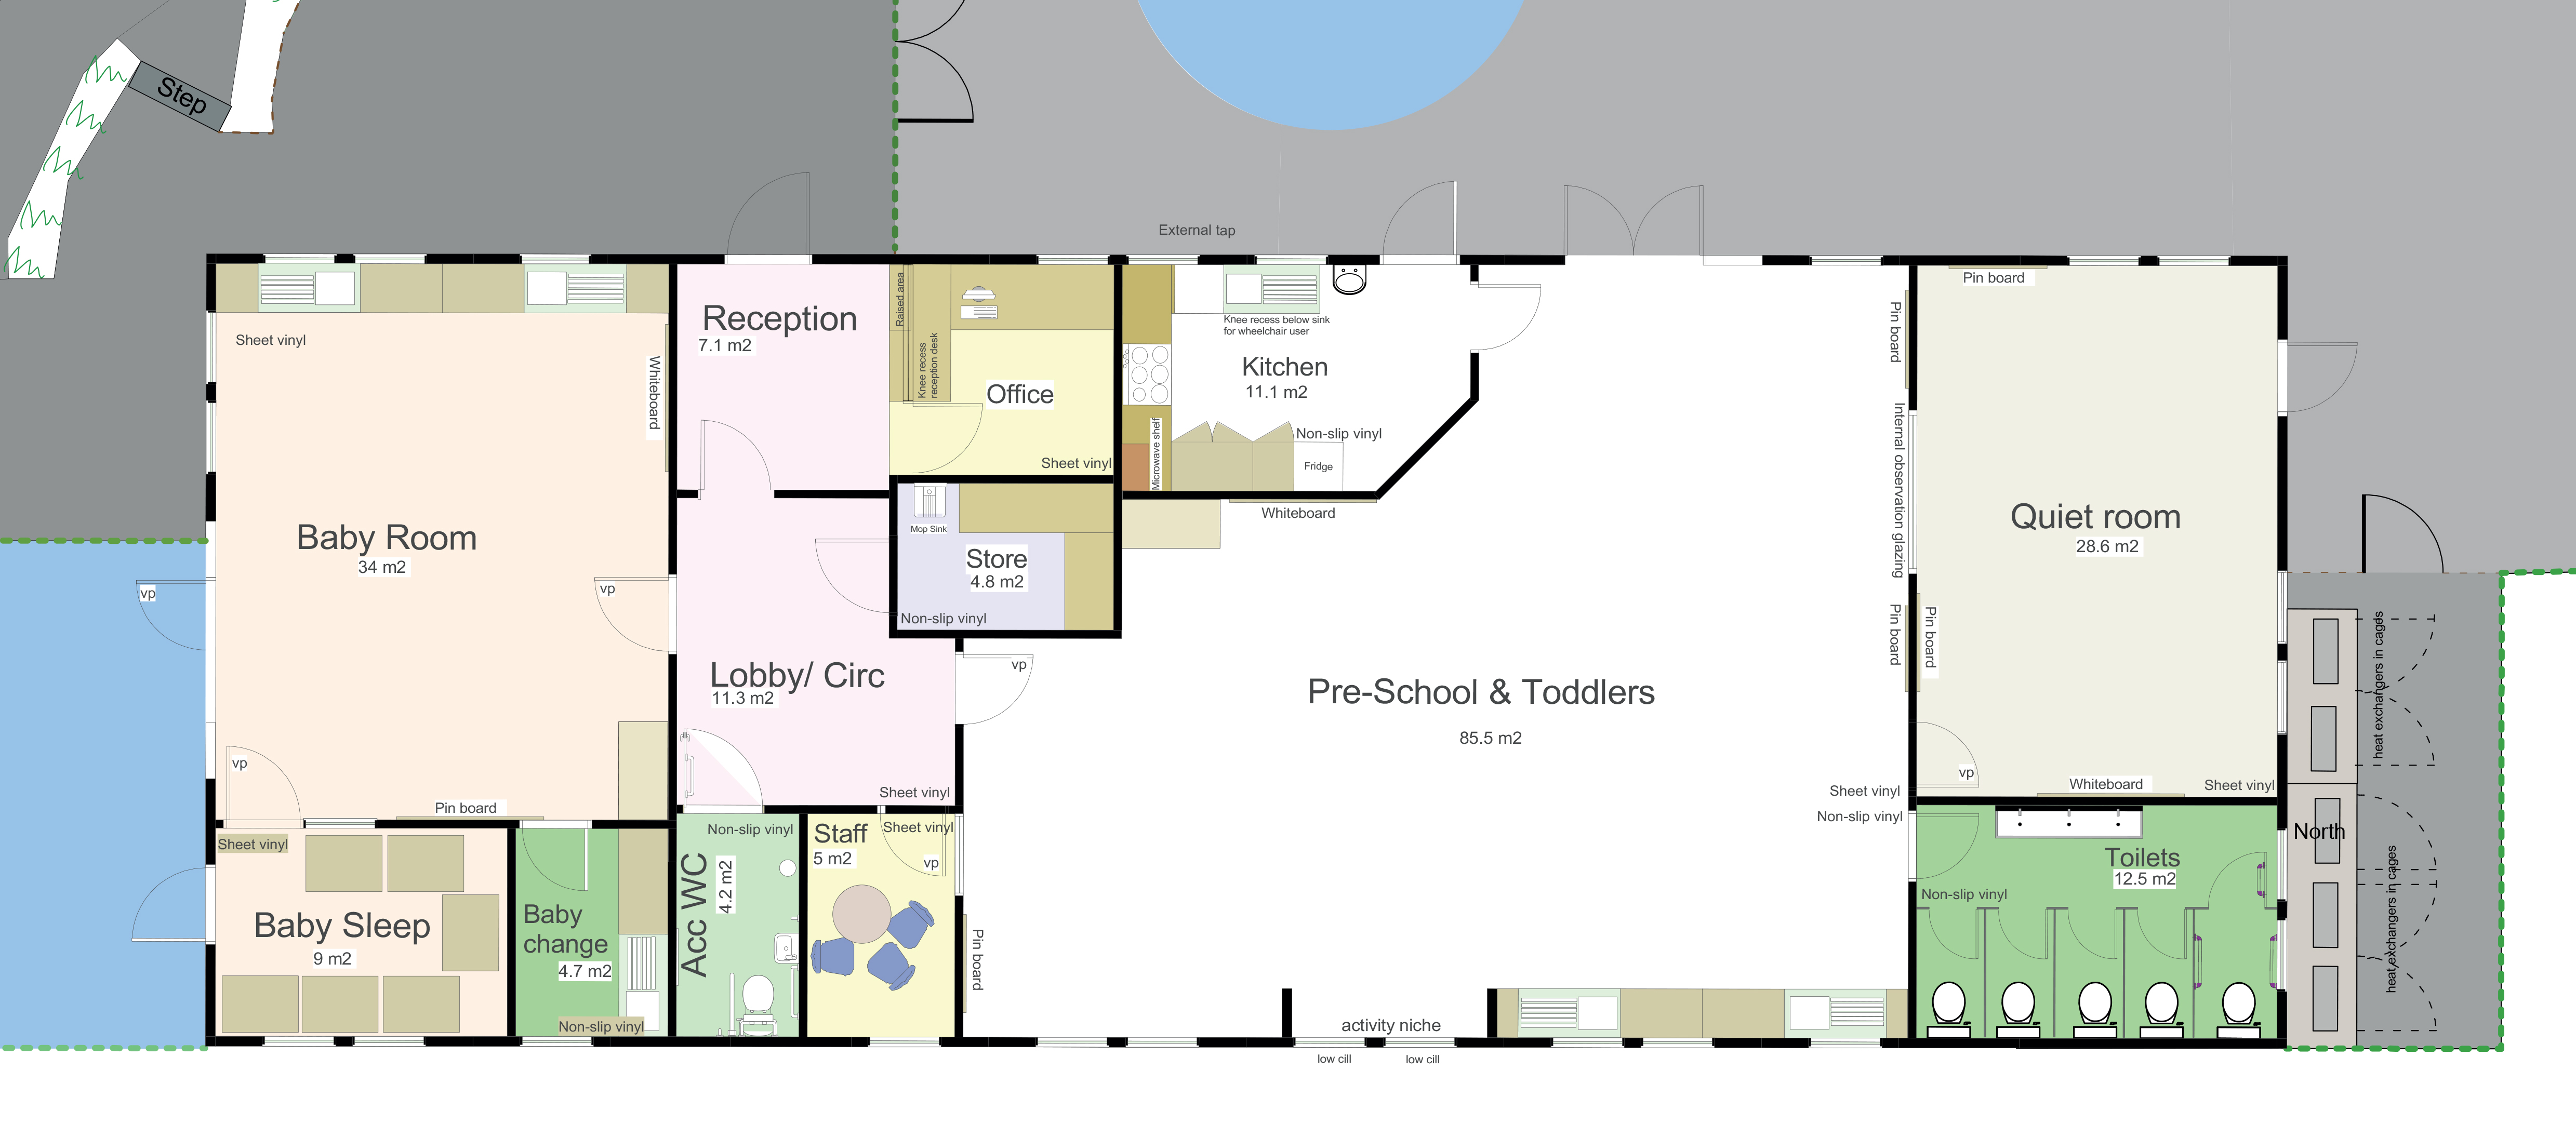door: (680, 726, 764, 807), (2357, 491, 2445, 569), (803, 537, 887, 615), (128, 868, 207, 947), (693, 414, 775, 490), (1465, 279, 1548, 355), (905, 399, 986, 475), (1378, 177, 1459, 253), (518, 817, 593, 896), (1921, 909, 1983, 963), (1990, 909, 2052, 963), (2060, 909, 2123, 963), (2129, 909, 2192, 963), (2210, 850, 2272, 904)
